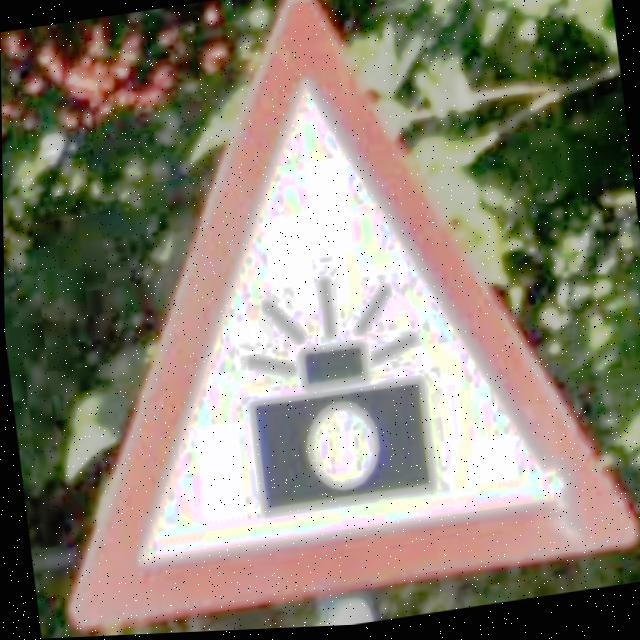speedcamera: (72, 0, 635, 630)
